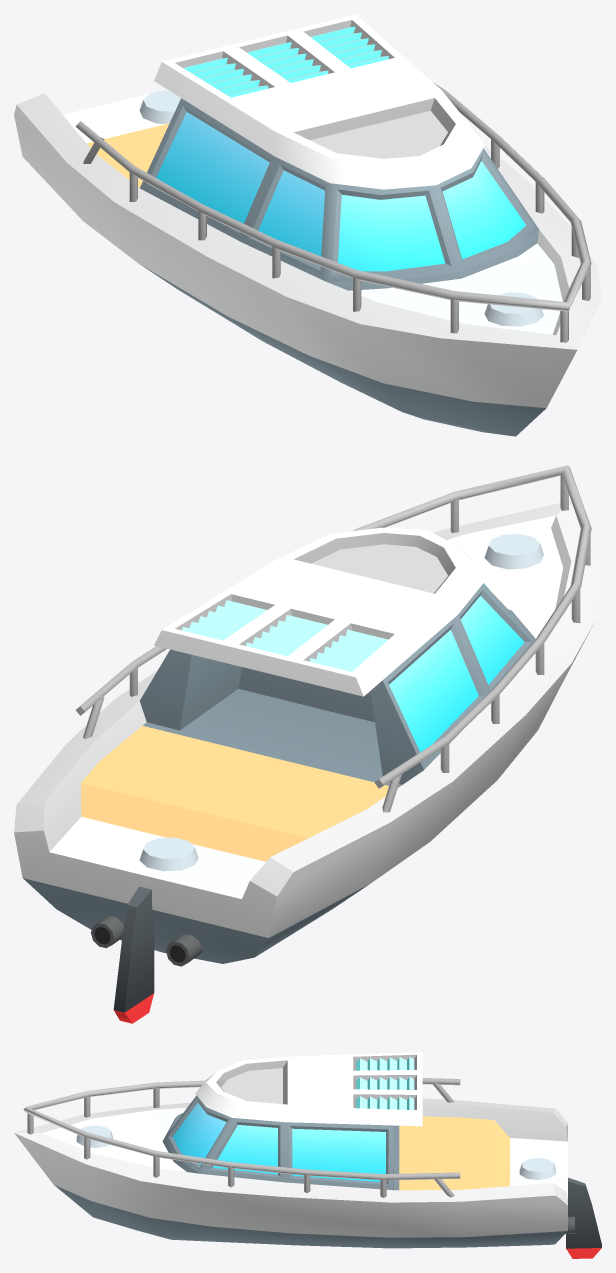
Rendered from Yacht_02.glb.
3 renders of one model, top to bottom at view 1: azimuth 30°, elevation 25°; view 2: azimuth 150°, elevation 25°; view 3: azimuth 270°, elevation 25°, orthographic. The views are drawn at different scales.
Visible parts, largest first — view 1: Yacht_02; view 2: Yacht_02; view 3: Yacht_02.
Boxes of the visible parts, box(x1,y1,x2,y2) form: Yacht_02: box(14, 14, 601, 436); Yacht_02: box(14, 465, 601, 1023); Yacht_02: box(14, 1052, 601, 1258).
Bounding box in the file's own units: 6.09 × 4.68 × 14.3.
1 material, 1 textured.
